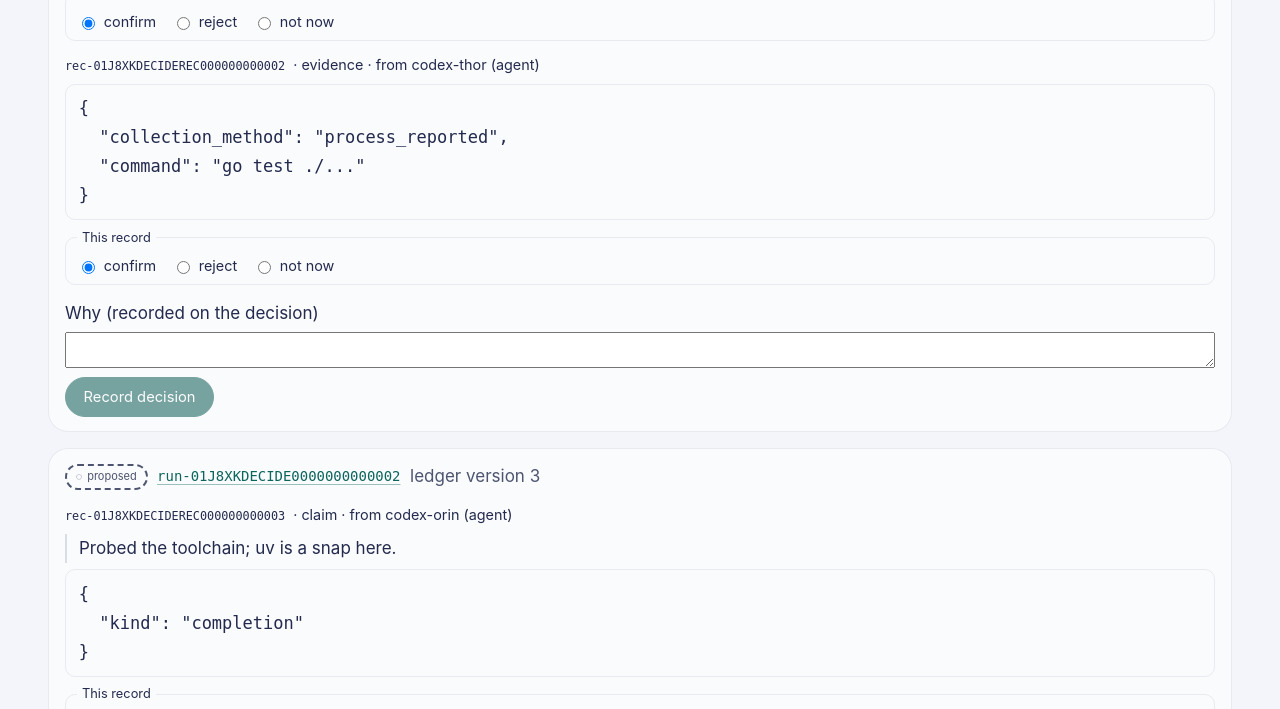
Scenario: Decisions submission › keeps the confirmation after the decided run leaves the pending list
(page scrolled)
In the text box labelled "Why (recorded on the decision)": (640, 350) [65,332,1215,368], type "read the qualification"
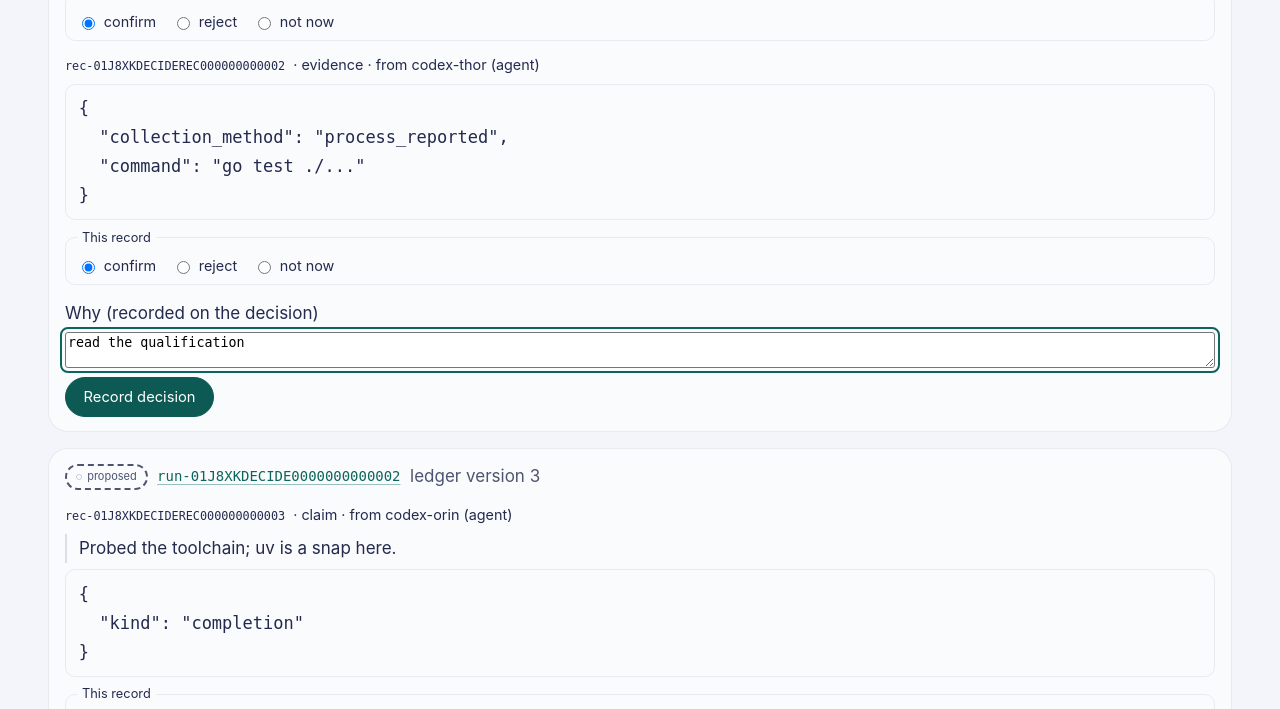
Click the button "Record decision": (140, 397) [65,377,214,417]
(page scrolled)
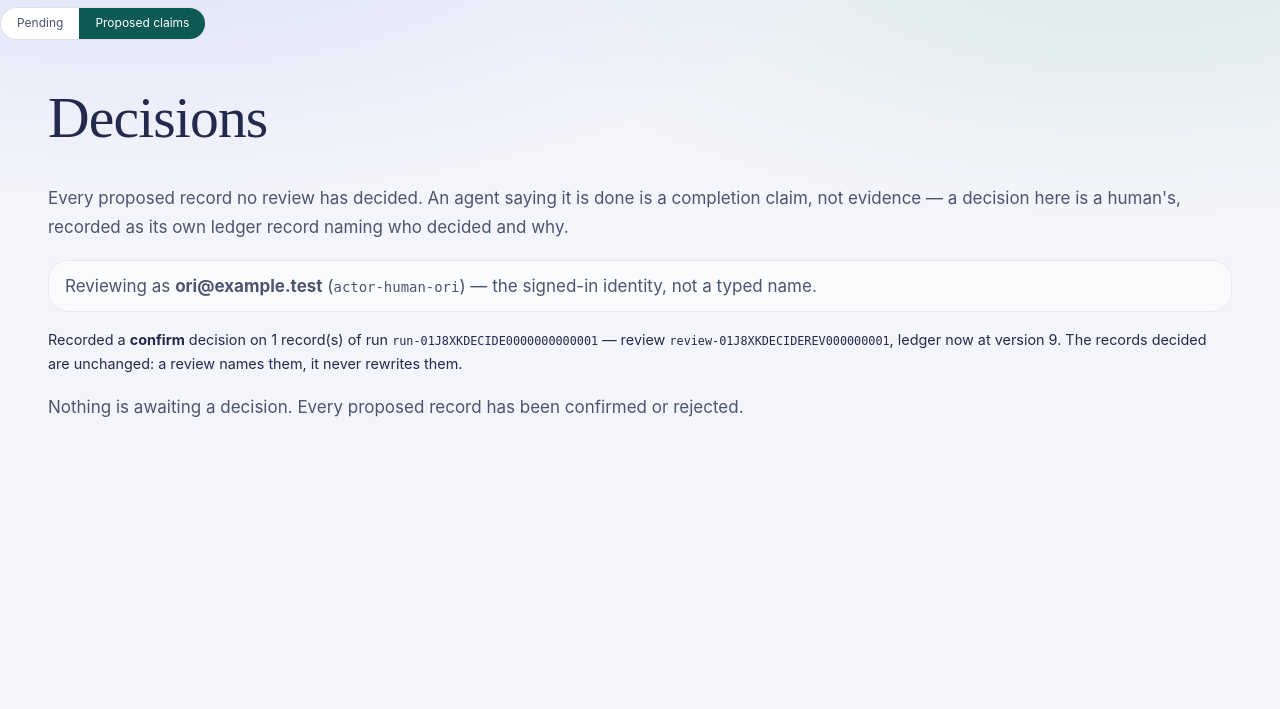
Result: the text "Nothing is awaiting a decision." is shown at [48,397,744,417]
Result: the message shows "review-01J8XKDECIDEREV000000001" at [669,334,890,348]
Result: the message shows "run-01J8XKDECIDE0000000000001" at [392,334,598,348]
